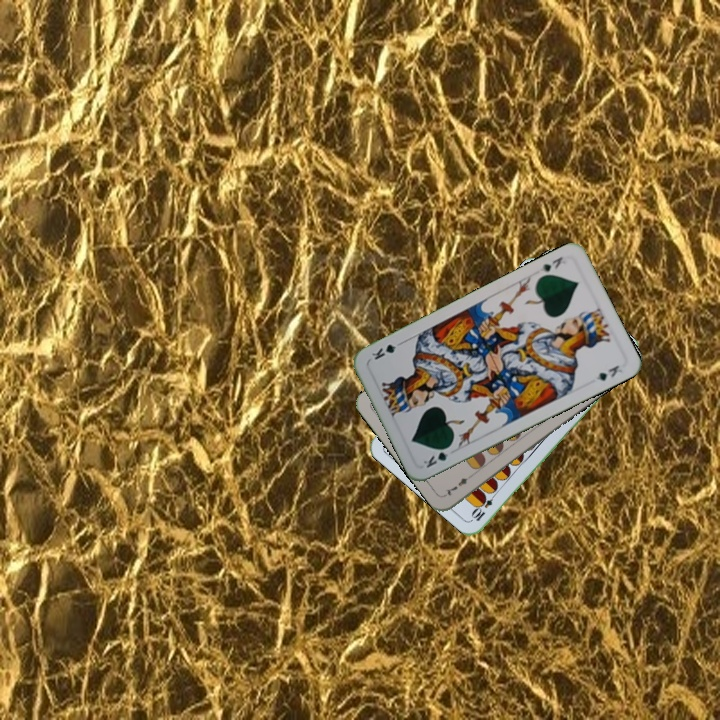E10: (468, 487, 499, 524)
E7: (441, 470, 476, 498)
GK: (419, 441, 454, 471), (536, 252, 569, 275)
